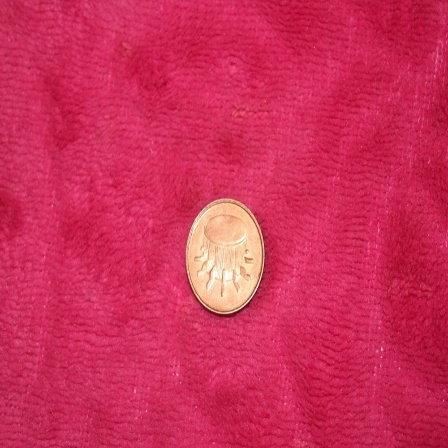1c: (184, 198, 265, 319)
